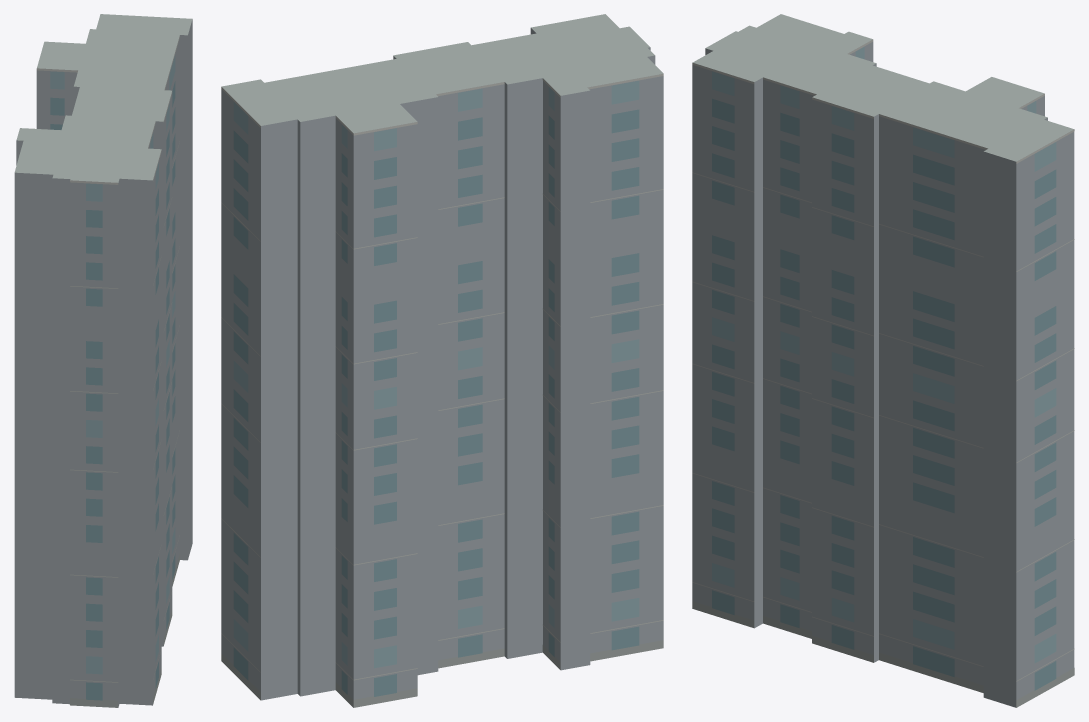
The model's file is survey-upis-32680938.glb.
3 views of the same model, side by side, from view 1: azimuth 30°, elevation 25°; view 2: azimuth 150°, elevation 25°; view 3: azimuth 270°, elevation 25° (orthographic). The views are drawn at different scales.
Parts seen in each view (by area): view 1: survey-upis-32680938.tmp; view 2: survey-upis-32680938.tmp; view 3: survey-upis-32680938.tmp.
Part boxes in pixels (bbox=[...]): survey-upis-32680938.tmp: bbox=[14, 14, 192, 707]; survey-upis-32680938.tmp: bbox=[221, 14, 663, 707]; survey-upis-32680938.tmp: bbox=[692, 14, 1074, 707].
Size of the model in its own units: 35.42 by 61 by 38.69.
